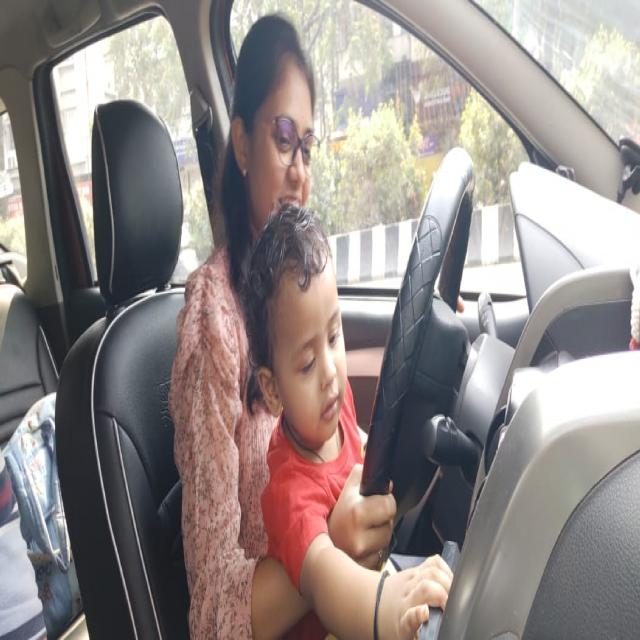child: (240, 203, 352, 450)
person: (229, 10, 324, 214)
